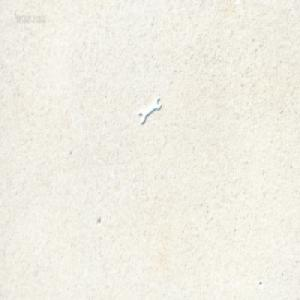Wrench: (137, 96, 160, 124)
